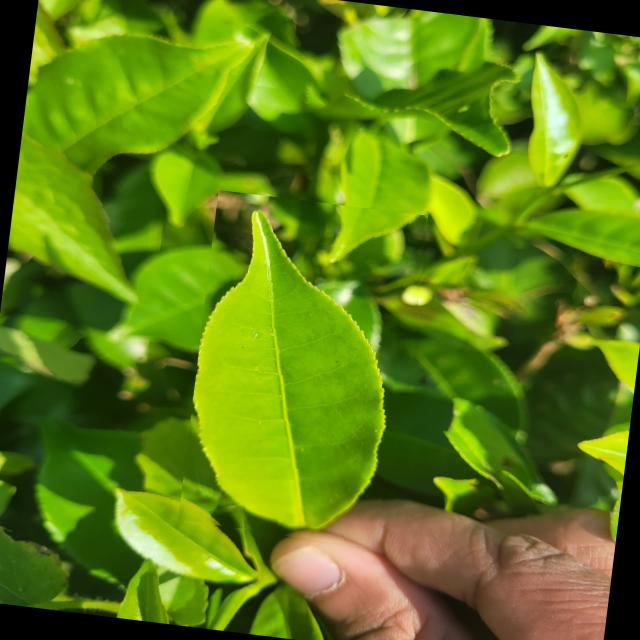Catagory A(1-2 days): (175, 189, 434, 552)
